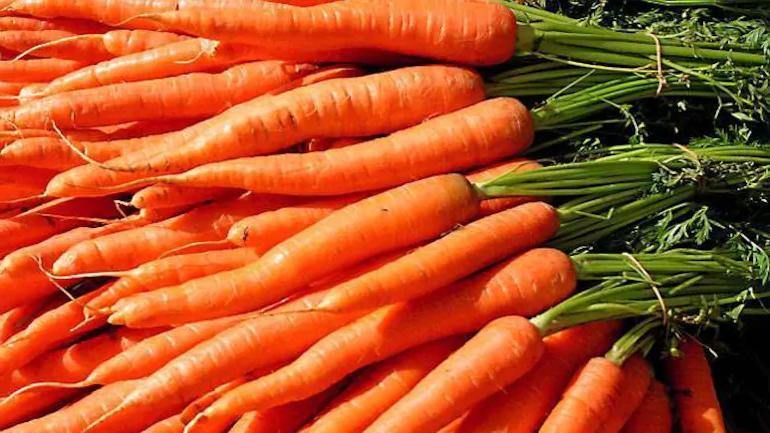carrot: (4, 0, 689, 433)
